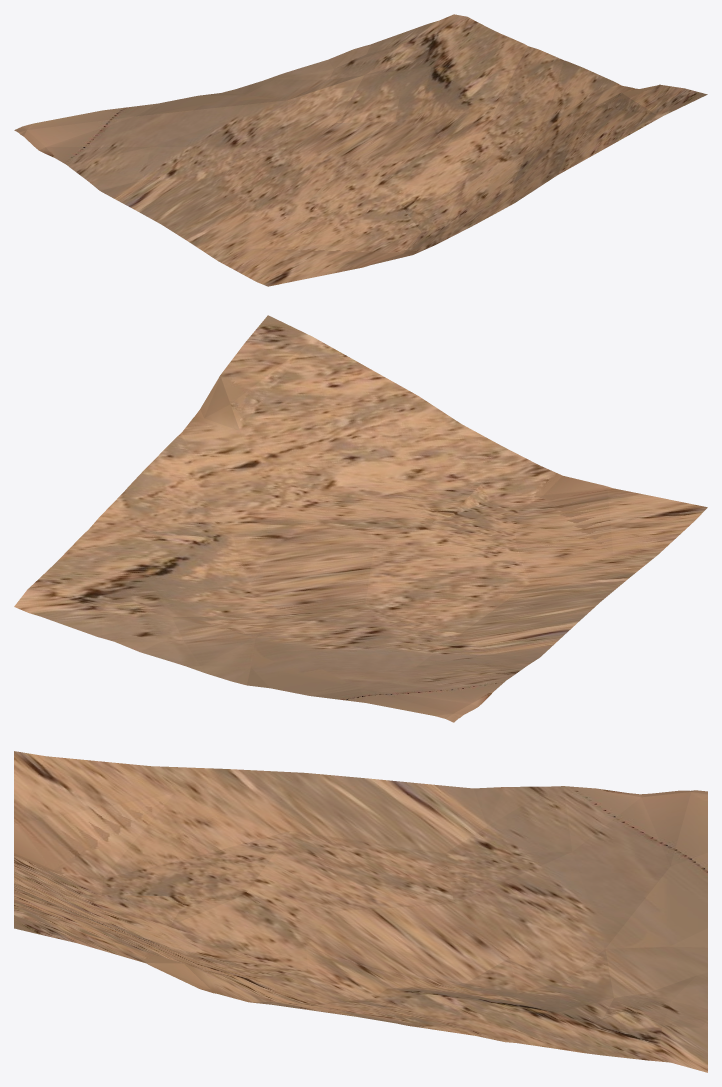
3 views of the same model, one above another, from view 1: azimuth 30°, elevation 25°; view 2: azimuth 150°, elevation 25°; view 3: azimuth 270°, elevation 25° (orthographic). The views are drawn at different scales.
Bounding box in the file's own units: 1.04 × 0.2894 × 1.04.
Materials: 2 (2 with a texture image).
